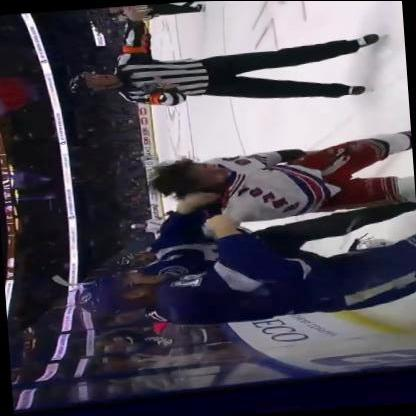non-Voilence: (65, 24, 382, 119)
voilence: (65, 138, 415, 333)
